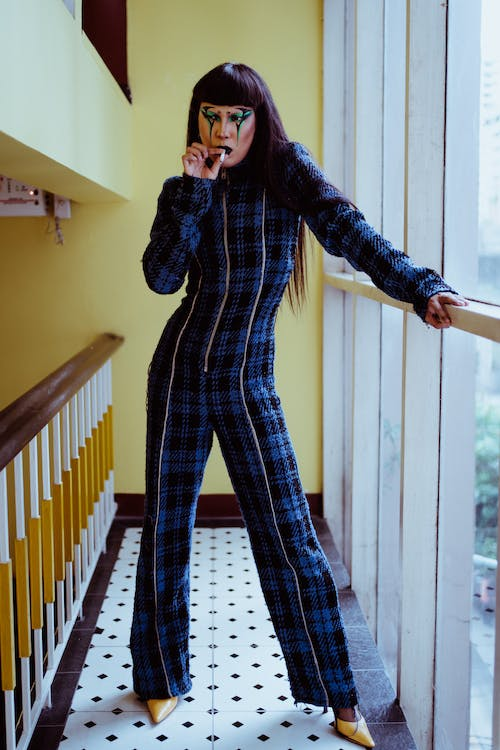cigarette: (216, 149, 228, 165)
